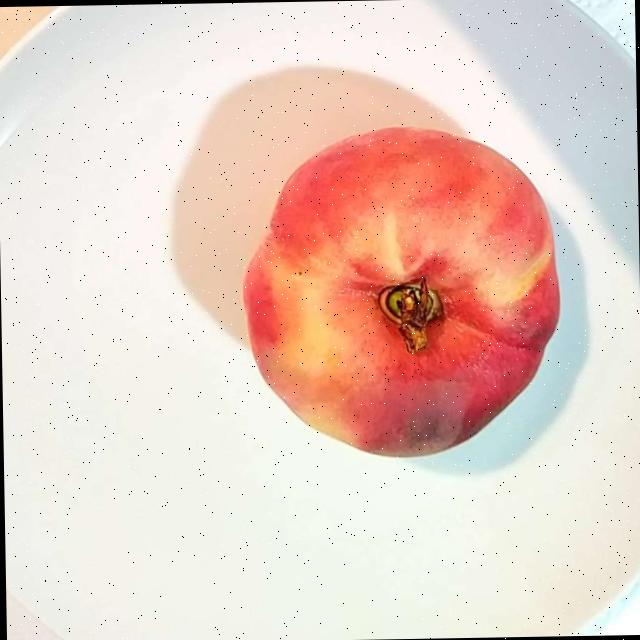peach: (248, 129, 555, 447)
